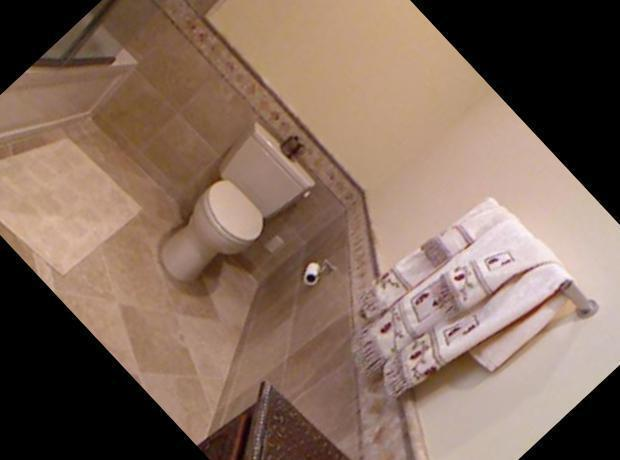Ducha: (0, 0, 314, 206)
Sanitario: (129, 114, 325, 306)
